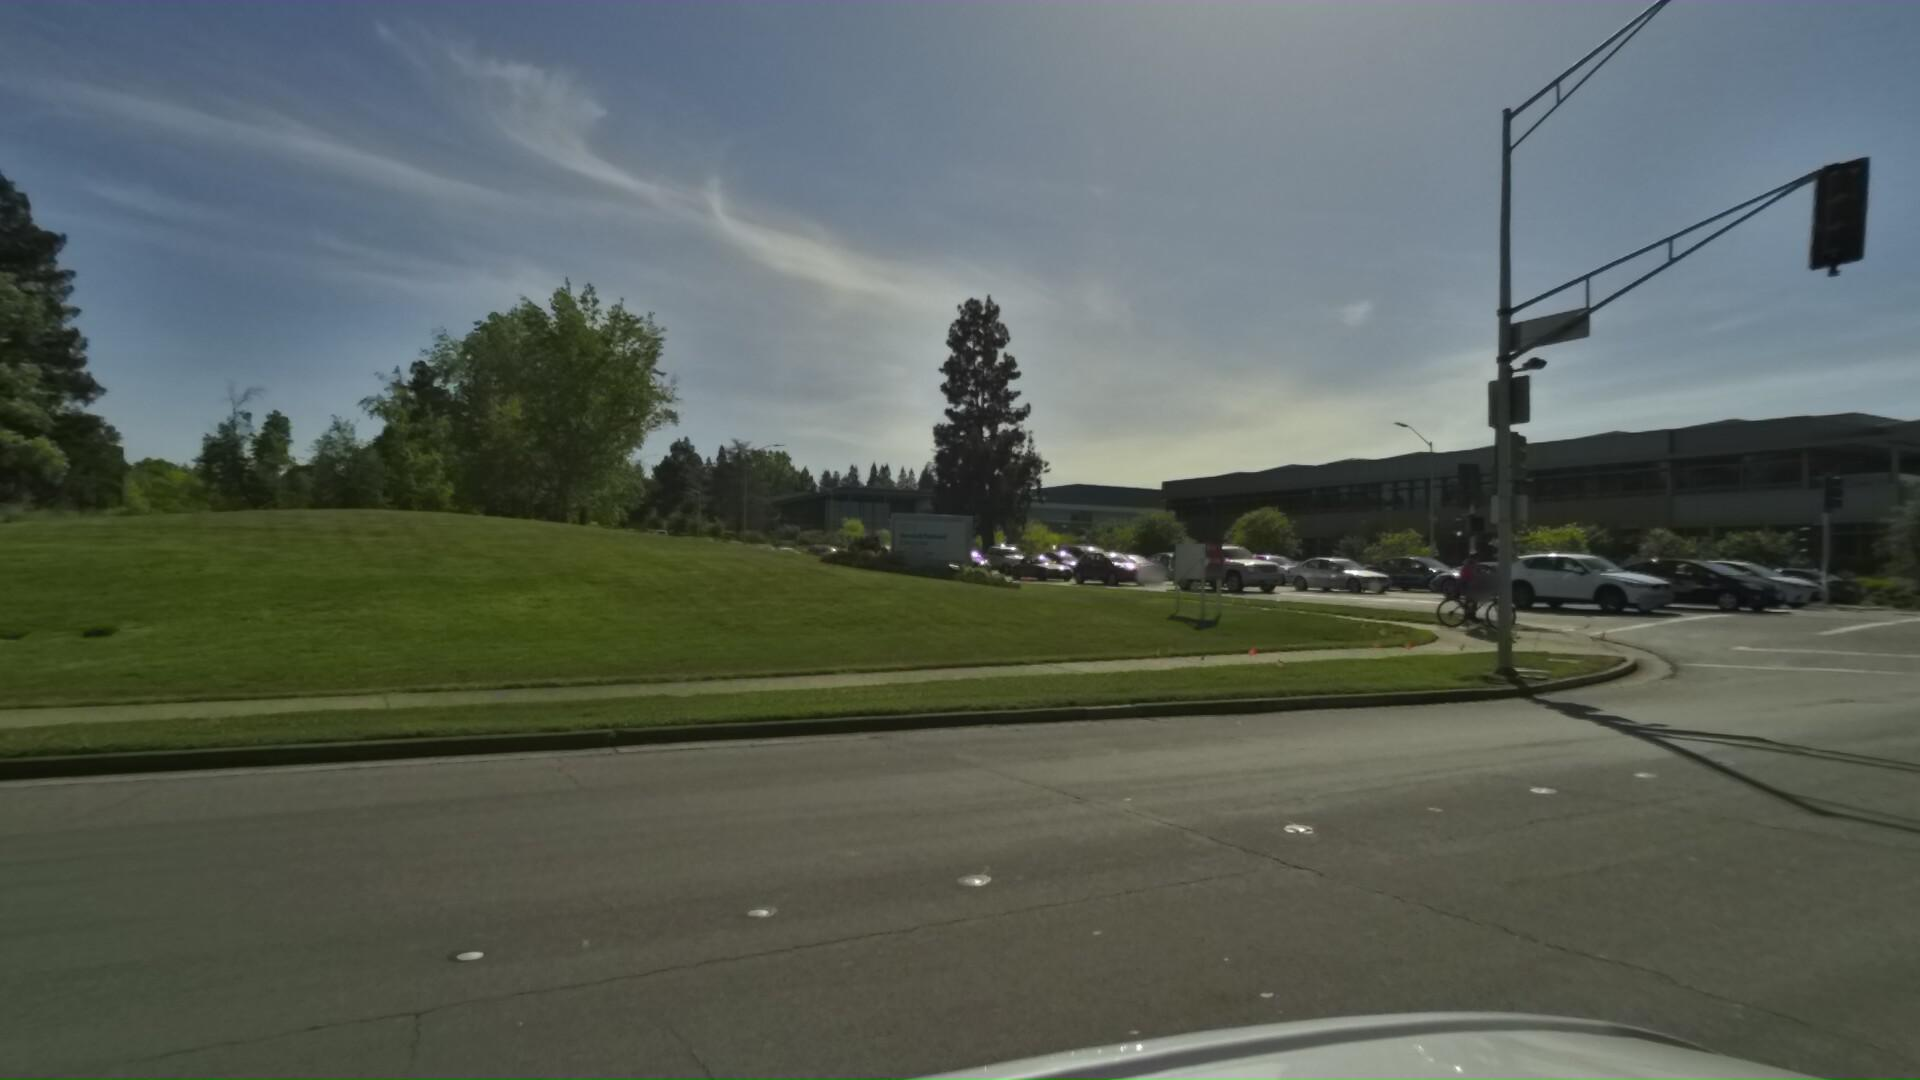bicycle: (1418, 546, 1516, 632)
car: (1480, 541, 1679, 615), (1597, 545, 1789, 609), (1642, 551, 1832, 605), (1411, 553, 1571, 607), (1151, 534, 1284, 595), (1274, 549, 1396, 597), (1353, 550, 1484, 589), (1062, 545, 1151, 585), (1218, 547, 1317, 584), (1087, 549, 1164, 583), (1000, 549, 1075, 582), (1019, 545, 1088, 578), (964, 541, 1031, 574), (927, 546, 990, 576), (766, 542, 803, 564)
